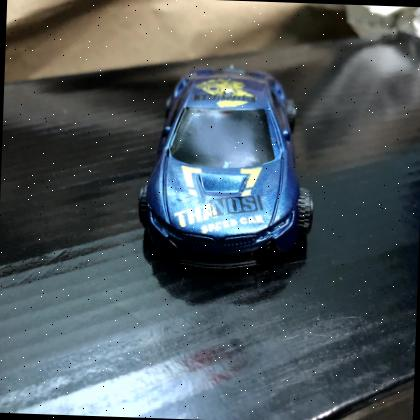Car: (138, 67, 310, 269)
